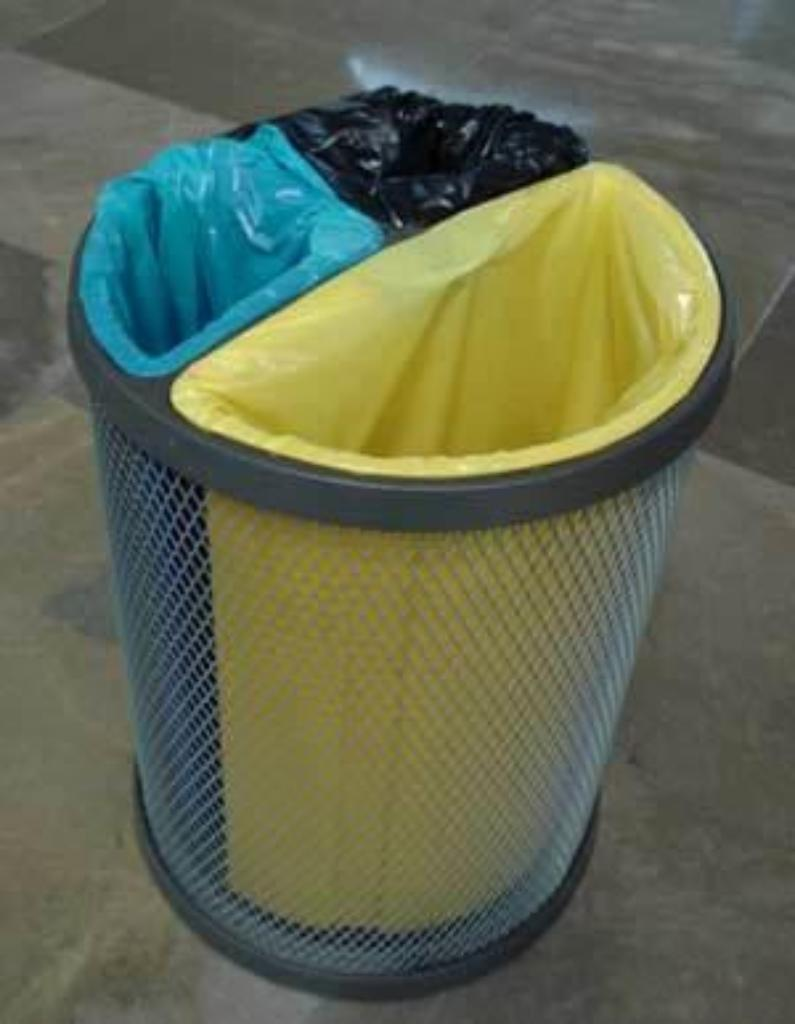dustbin: (53, 65, 749, 1008)
